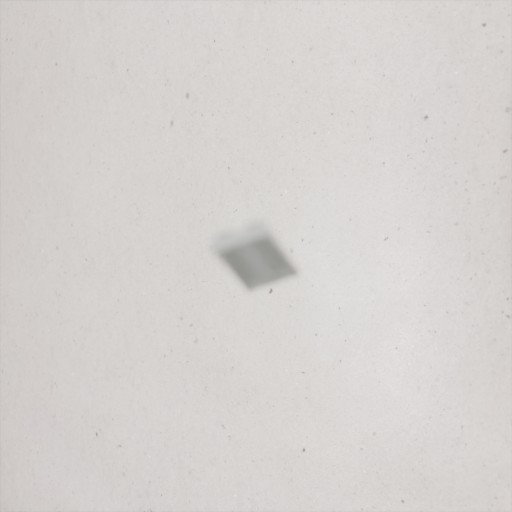lego: (208, 221, 301, 293)
